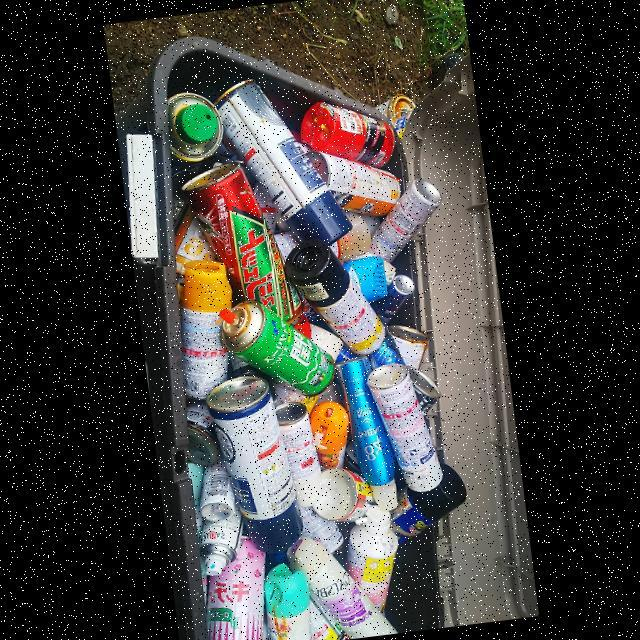chemical_spray_can: (213, 78, 351, 244), (181, 161, 302, 326), (205, 376, 301, 554), (219, 301, 334, 396), (366, 363, 442, 492), (335, 353, 396, 511), (179, 259, 231, 398), (205, 536, 264, 640), (369, 178, 442, 261), (198, 503, 242, 576)
